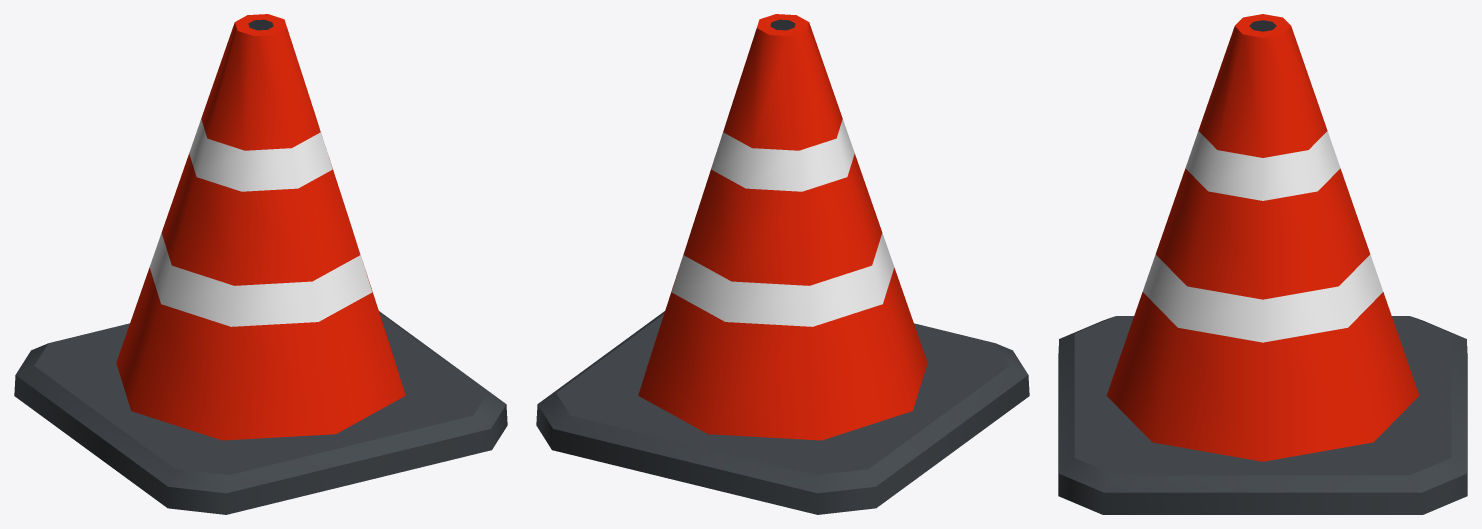
The model's file is Sign_1.fbx.
3 renders of one model, left to right at view 1: azimuth 30°, elevation 25°; view 2: azimuth 150°, elevation 25°; view 3: azimuth 270°, elevation 25°, orthographic. The views are drawn at different scales.
Parts seen in each view (by area): view 1: Sign_1; view 2: Sign_1; view 3: Sign_1.
Part boxes in pixels (<box>): Sign_1: <box>14,14,507,514</box>; Sign_1: <box>536,14,1029,514</box>; Sign_1: <box>1058,14,1467,514</box>.
Bounding box in the file's own units: 95.82 × 104 × 95.82.
